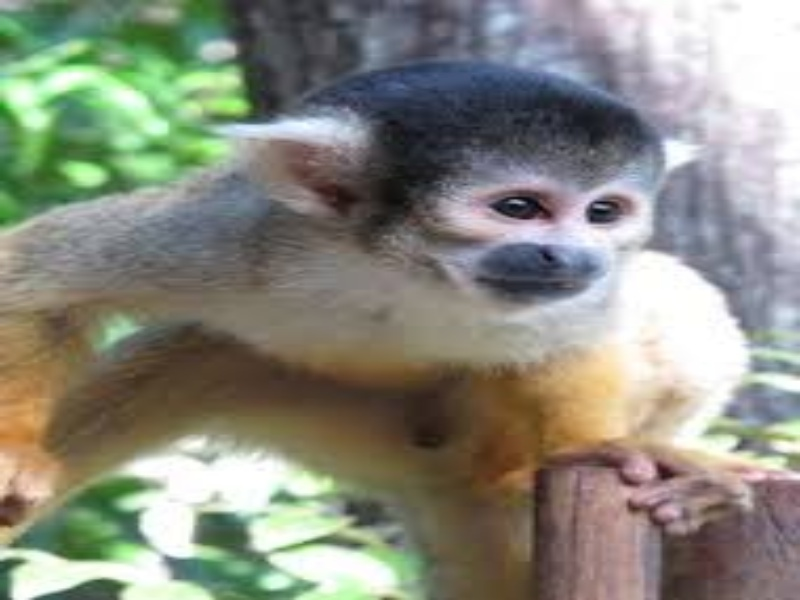monkey: (20, 54, 775, 522)
